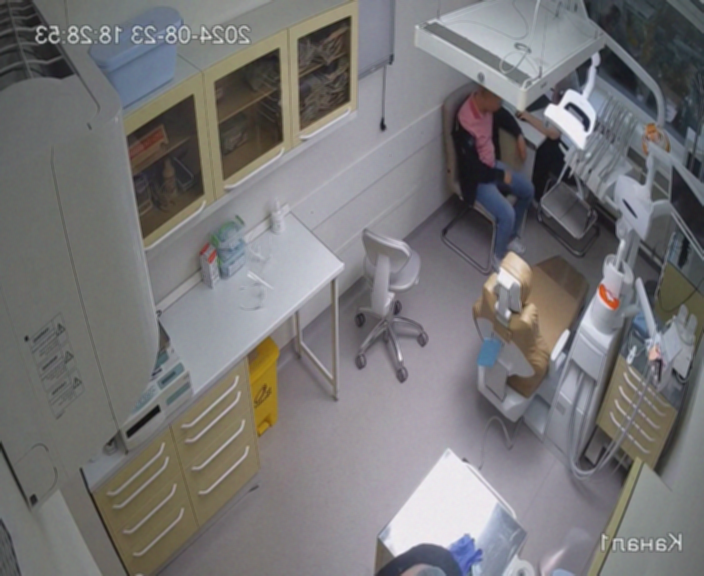Empty: (474, 254, 589, 415)
